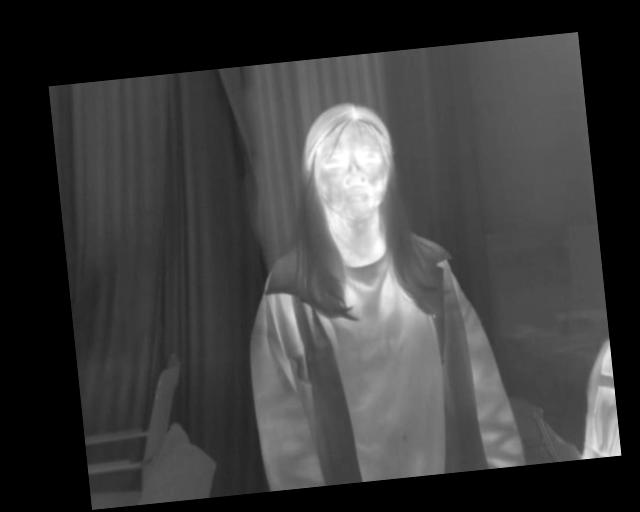face: (298, 98, 396, 226)
